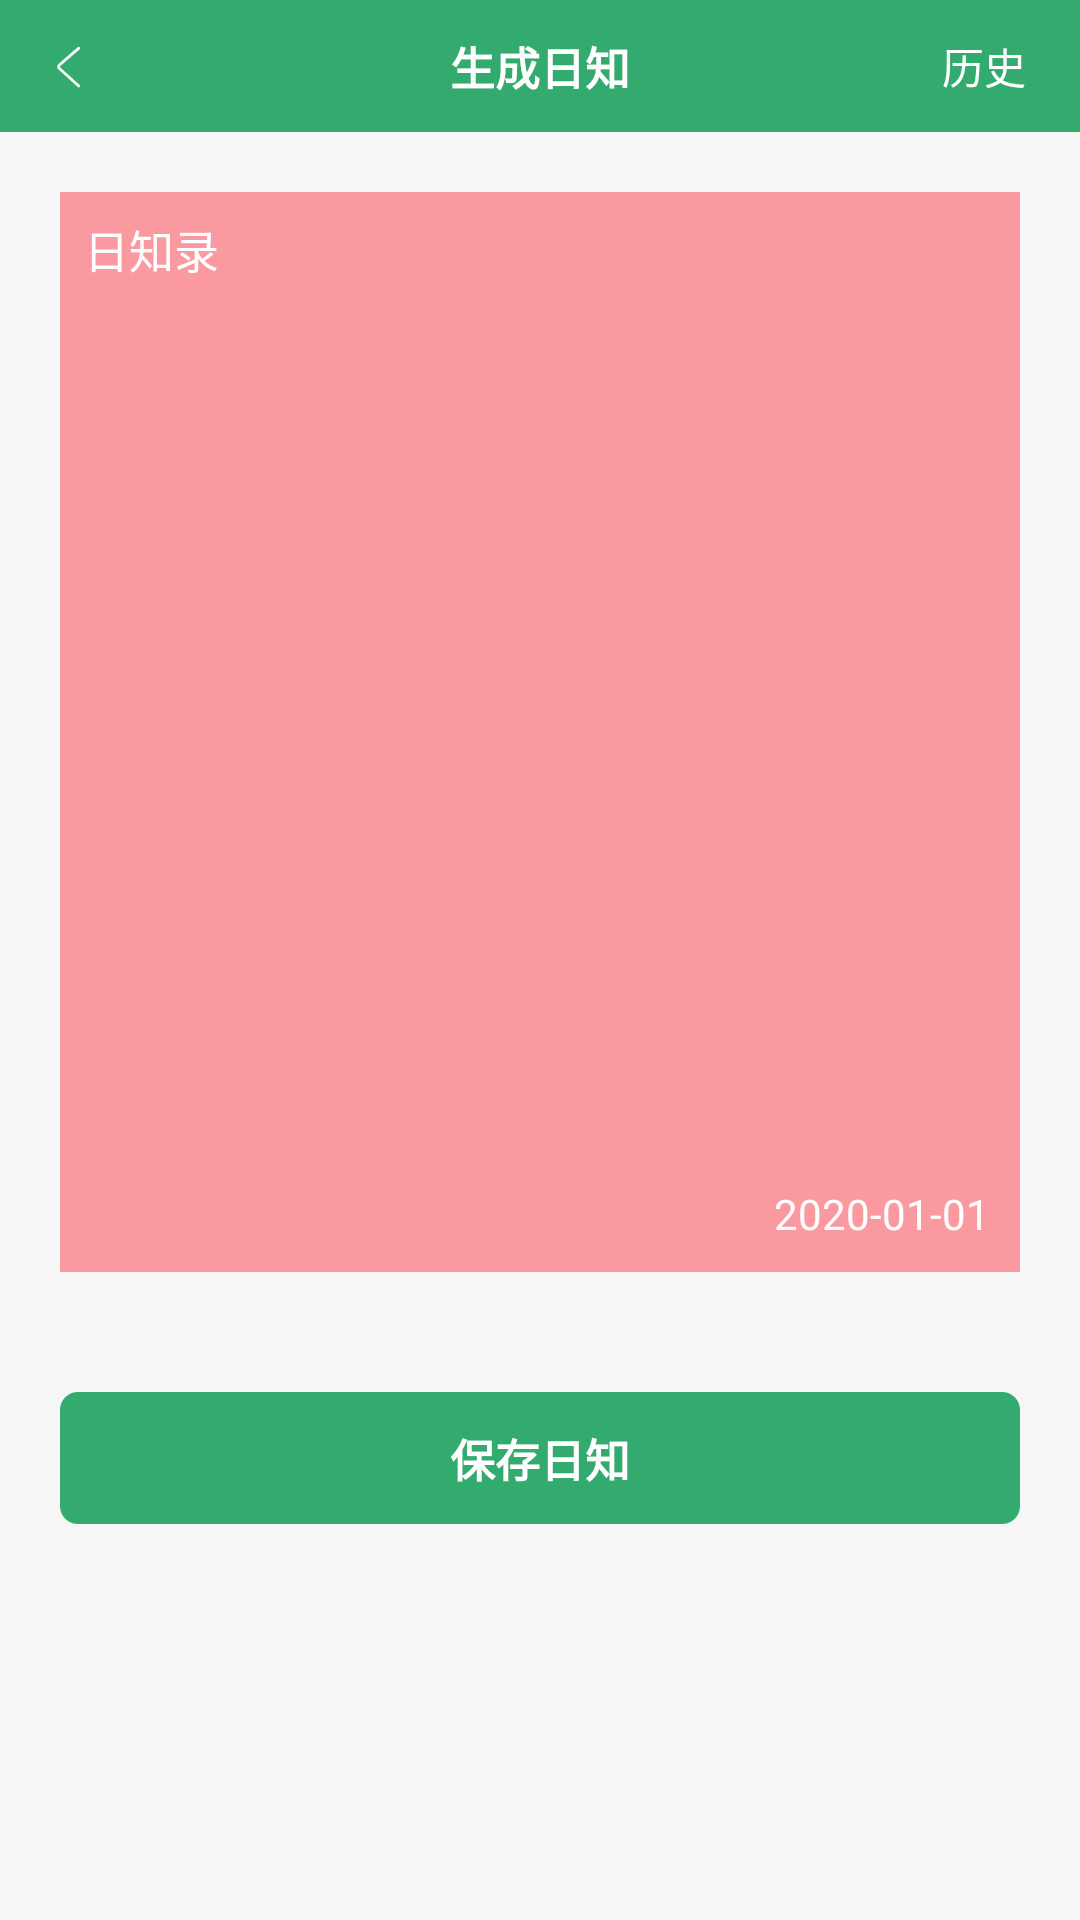

Where icons sit on this 1080px x 1920px app screen, as BBox(x1, y1, x2, y2):
back: BBox(57, 46, 80, 88)
